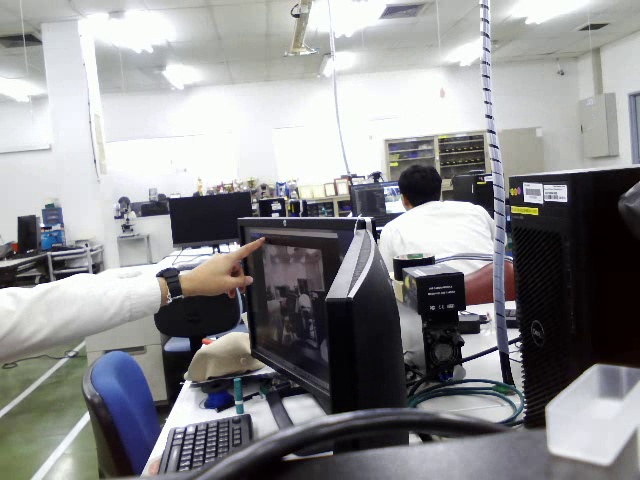aaa: (74, 344, 165, 477)
